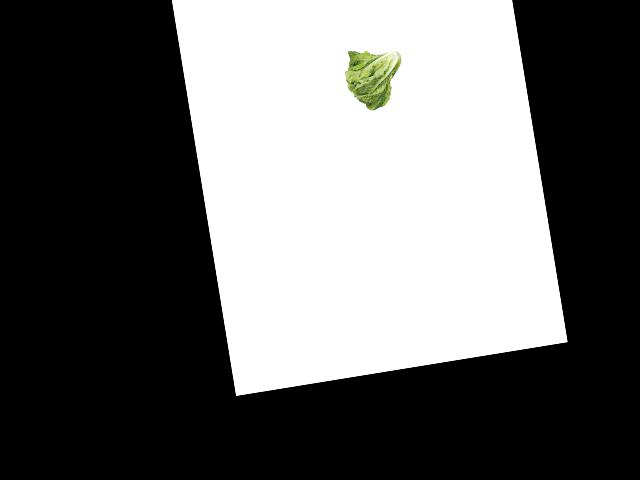lettuce: (339, 41, 412, 115)
